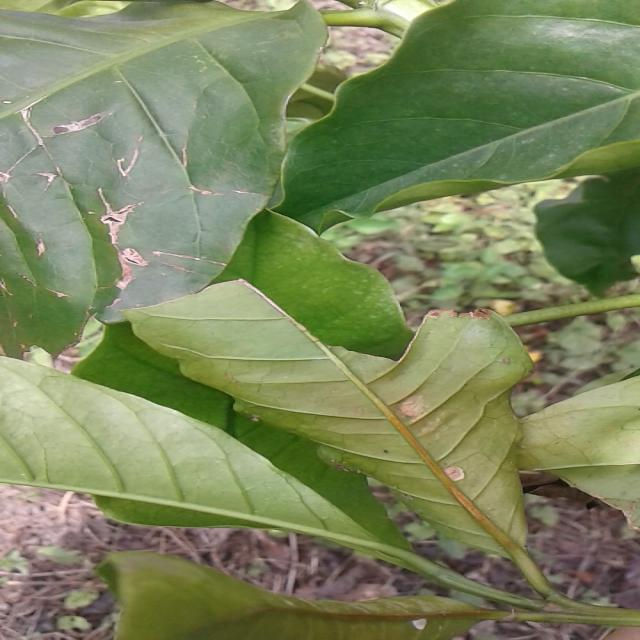Enfermedad-Roya: (124, 281, 546, 589)
